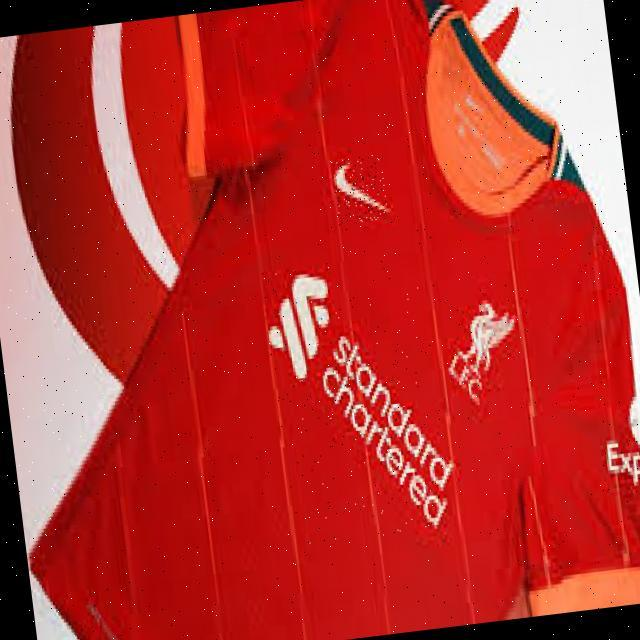Nike: (330, 154, 389, 226)
Standard Chartered: (262, 251, 459, 550)
